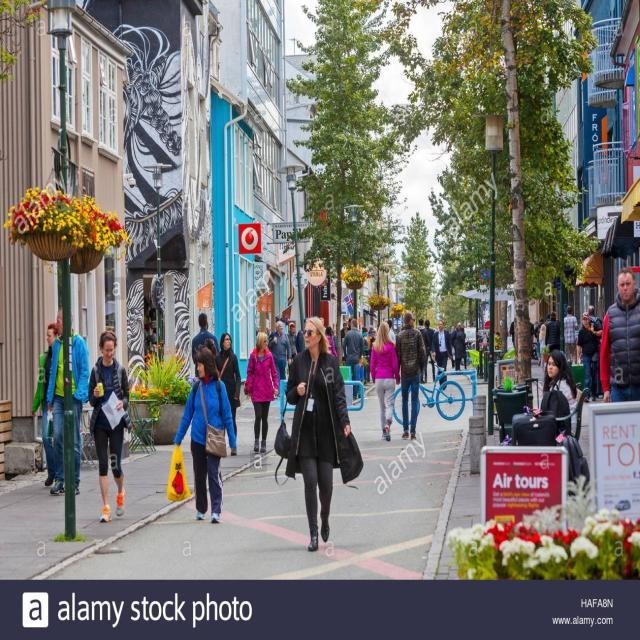body: (274, 314, 366, 554), (172, 343, 237, 525), (87, 329, 135, 524), (45, 303, 90, 498), (599, 267, 640, 404), (30, 322, 61, 488), (243, 330, 280, 456), (394, 310, 427, 442), (368, 320, 402, 442), (212, 331, 242, 458), (540, 348, 579, 438), (575, 310, 604, 403), (266, 320, 292, 400), (190, 312, 220, 381), (342, 318, 364, 400), (430, 318, 453, 391), (476, 318, 516, 358), (139, 295, 157, 370), (417, 318, 433, 384), (563, 304, 579, 366), (421, 319, 436, 383), (544, 310, 561, 354), (360, 326, 372, 386), (454, 325, 469, 373), (318, 316, 338, 352), (533, 317, 546, 367), (287, 322, 298, 374), (449, 321, 463, 359), (324, 325, 338, 359), (295, 316, 308, 352), (538, 323, 547, 372), (340, 322, 350, 366), (587, 304, 603, 329), (357, 353, 365, 399), (253, 322, 270, 341), (367, 324, 377, 354), (202, 337, 217, 357), (528, 316, 535, 358), (386, 318, 397, 344), (449, 324, 455, 367), (361, 351, 370, 371), (545, 311, 552, 322), (347, 317, 352, 331), (372, 327, 379, 336)
